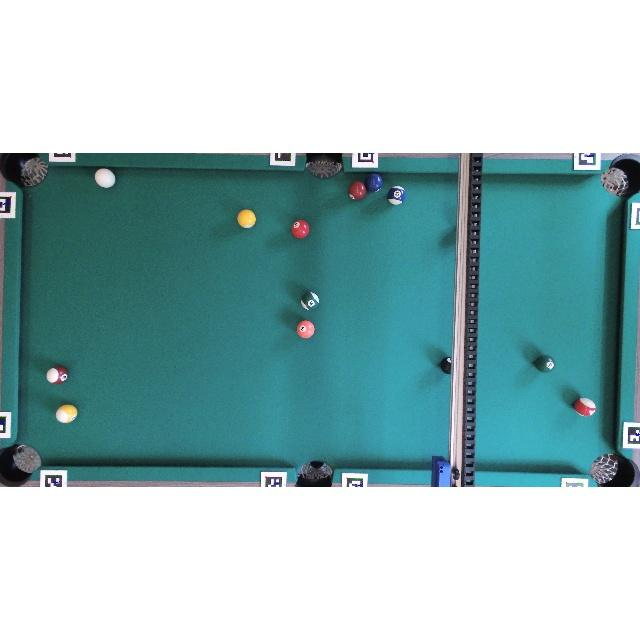cue ball: (94, 168, 116, 188)
other: (573, 397, 596, 417), (56, 404, 77, 424), (46, 366, 68, 384), (237, 209, 256, 229), (301, 291, 320, 311), (365, 172, 383, 192), (387, 187, 405, 206), (296, 320, 314, 338), (292, 220, 310, 238), (348, 182, 366, 200), (534, 356, 554, 372), (440, 356, 452, 374)
